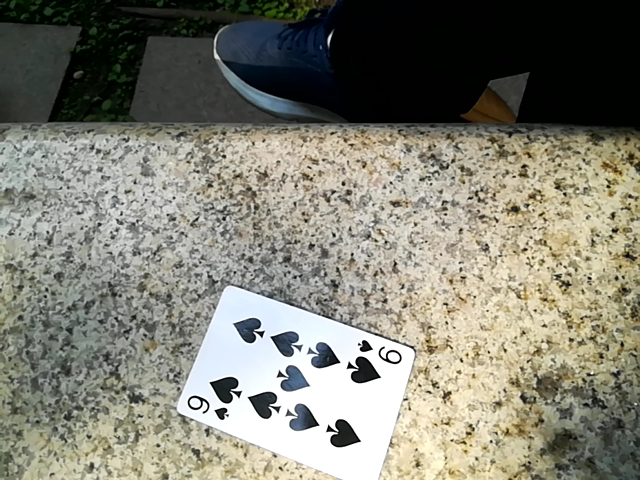ht 9: (169, 277, 405, 478)
